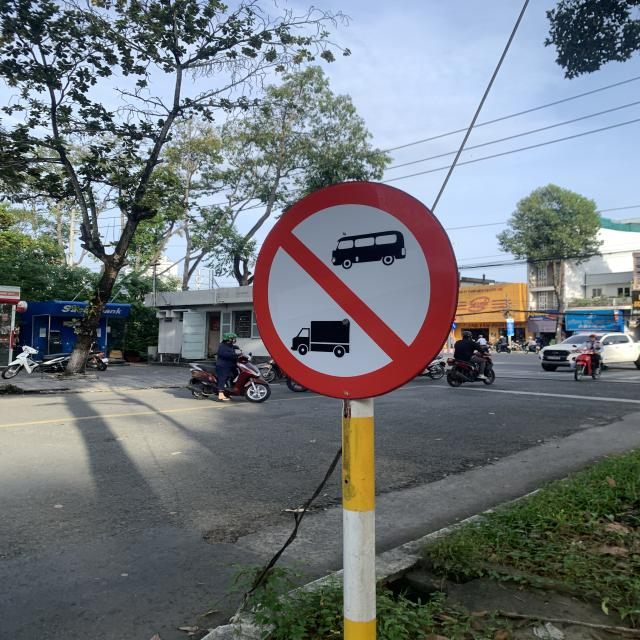Cam_XeTai_XeKhach: (249, 182, 462, 399)
